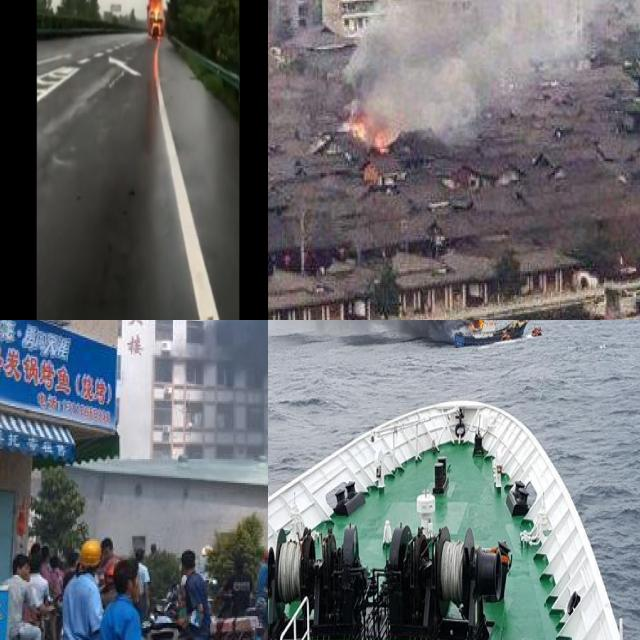fire: (349, 113, 395, 149), (148, 0, 164, 35), (470, 320, 484, 331)
smoke: (361, 0, 625, 130)
